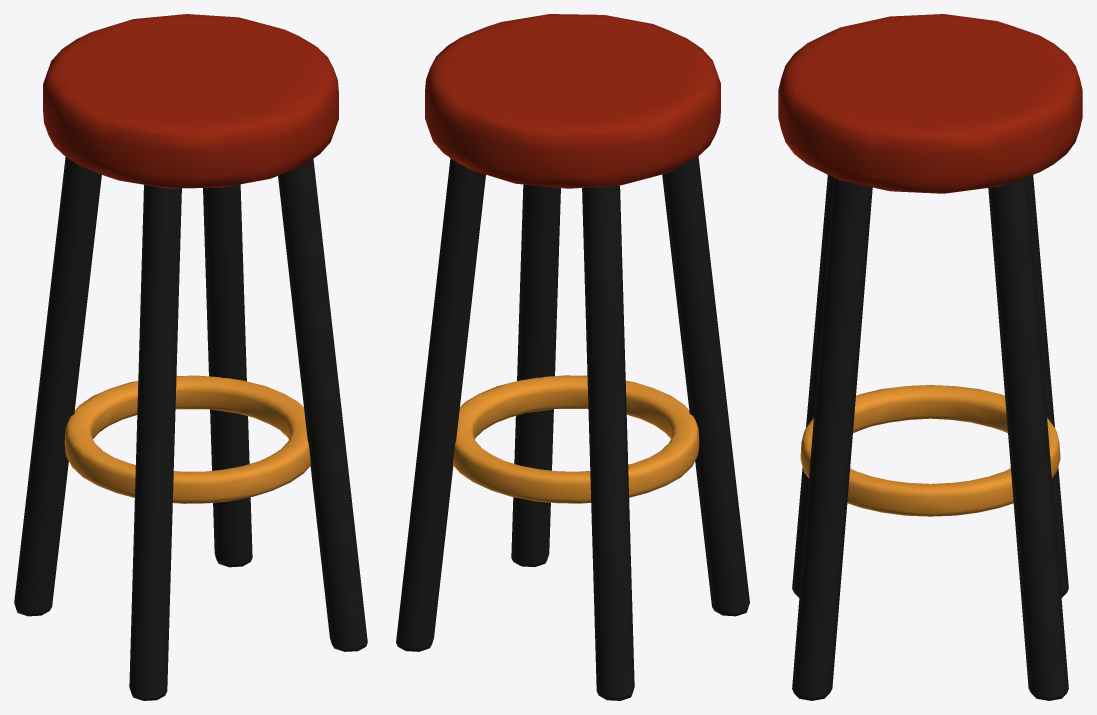
File: barstool_04_red.fbx
The picture shows the model from 3 angles, left to right: view 1: azimuth 30°, elevation 25°; view 2: azimuth 150°, elevation 25°; view 3: azimuth 270°, elevation 25°; orthographic projection. The views are drawn at different scales.
Parts seen in each view (by area): view 1: barstool_04_red; view 2: barstool_04_red; view 3: barstool_04_red.
Part boxes in pixels (x1,y1,x2,y2): barstool_04_red: [14, 14, 367, 700]; barstool_04_red: [396, 14, 749, 700]; barstool_04_red: [778, 14, 1082, 700].
Size of the model in its own units: 43.49 by 90.36 by 43.49.
Materials: 2 (2 with a texture image).
